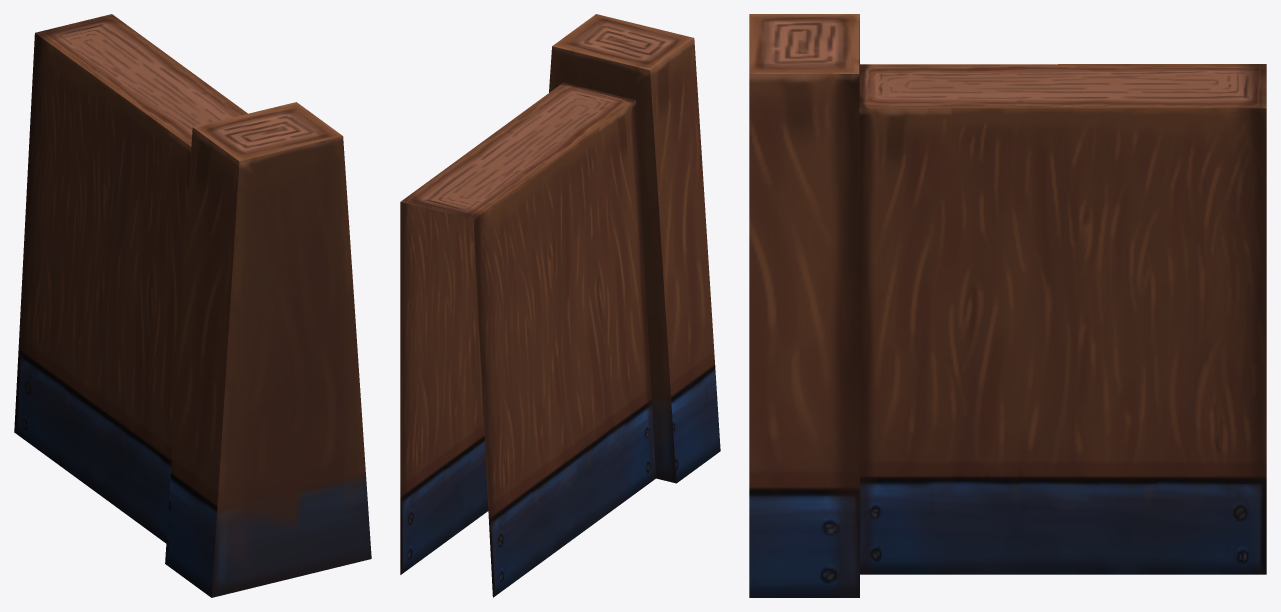
Rendered from Airship_Wall.fbx.
3 renders of one model, left to right at view 1: azimuth 30°, elevation 25°; view 2: azimuth 150°, elevation 25°; view 3: azimuth 270°, elevation 25°, orthographic. The views are drawn at different scales.
Parts seen in each view (by area): view 1: Airship_Wall; view 2: Airship_Wall; view 3: Airship_Wall.
Boxes of the visible parts, x1=… form: Airship_Wall: x1=14, y1=14, x2=371, y2=597; Airship_Wall: x1=400, y1=14, x2=720, y2=597; Airship_Wall: x1=749, y1=14, x2=1266, y2=597.
Bounding box in the file's own units: 170 × 436 × 402.
